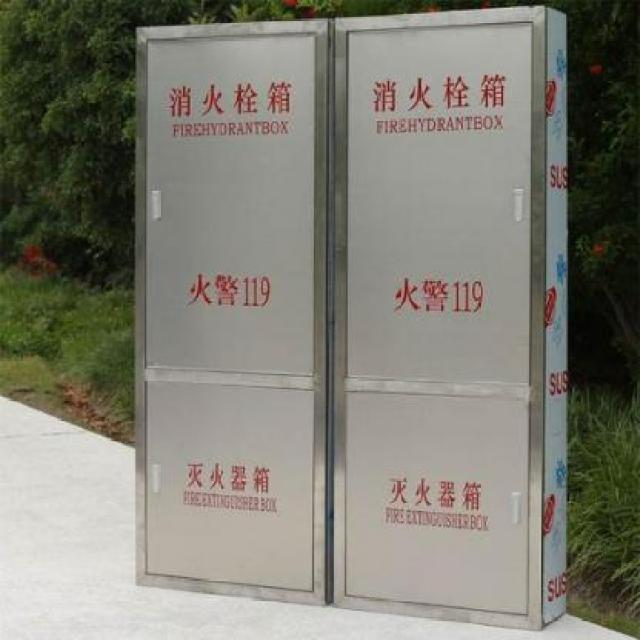firehydrant: (330, 0, 573, 635), (132, 15, 331, 610)
